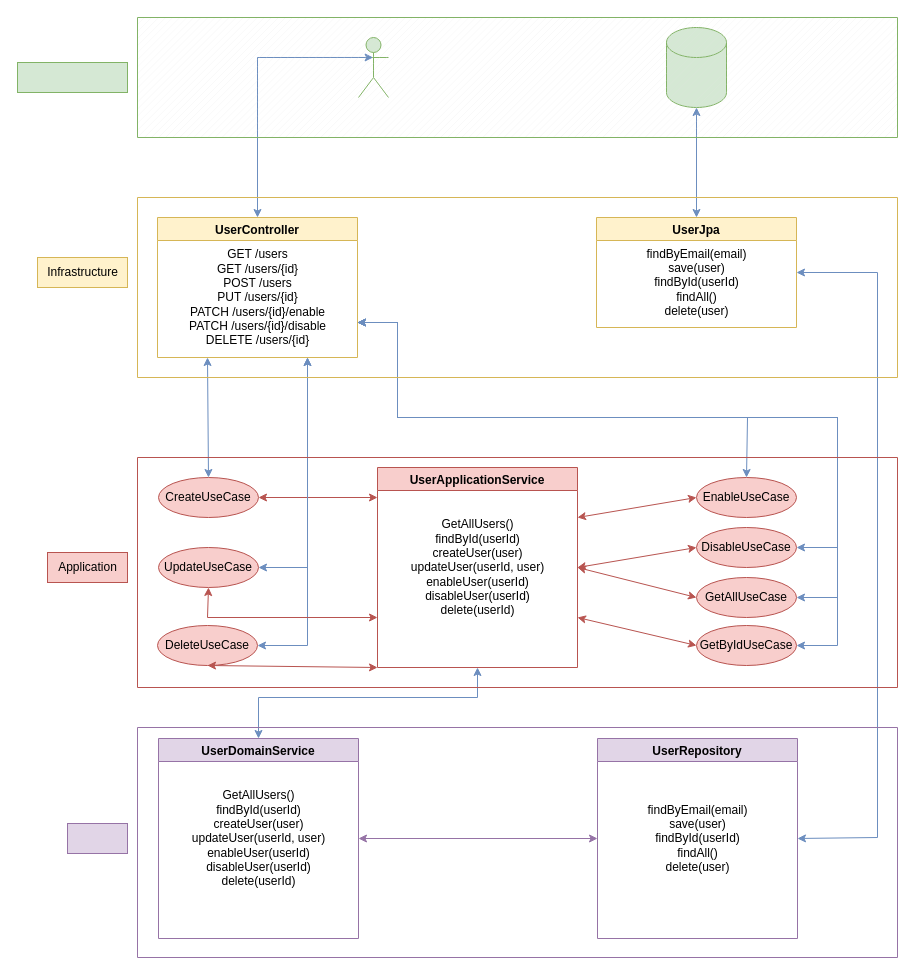
Some shapes in this 915 by 975 pixel diagram are drawn without their labels. The shapes that lost their labels are listed below. From the top down, each one's centre as x and y in pixels, then its label:
At (x=72, y=77): "Actors (external)".
At (x=373, y=67): "Project user".
At (x=696, y=67): "Local database".
At (x=97, y=838): "Domain".
